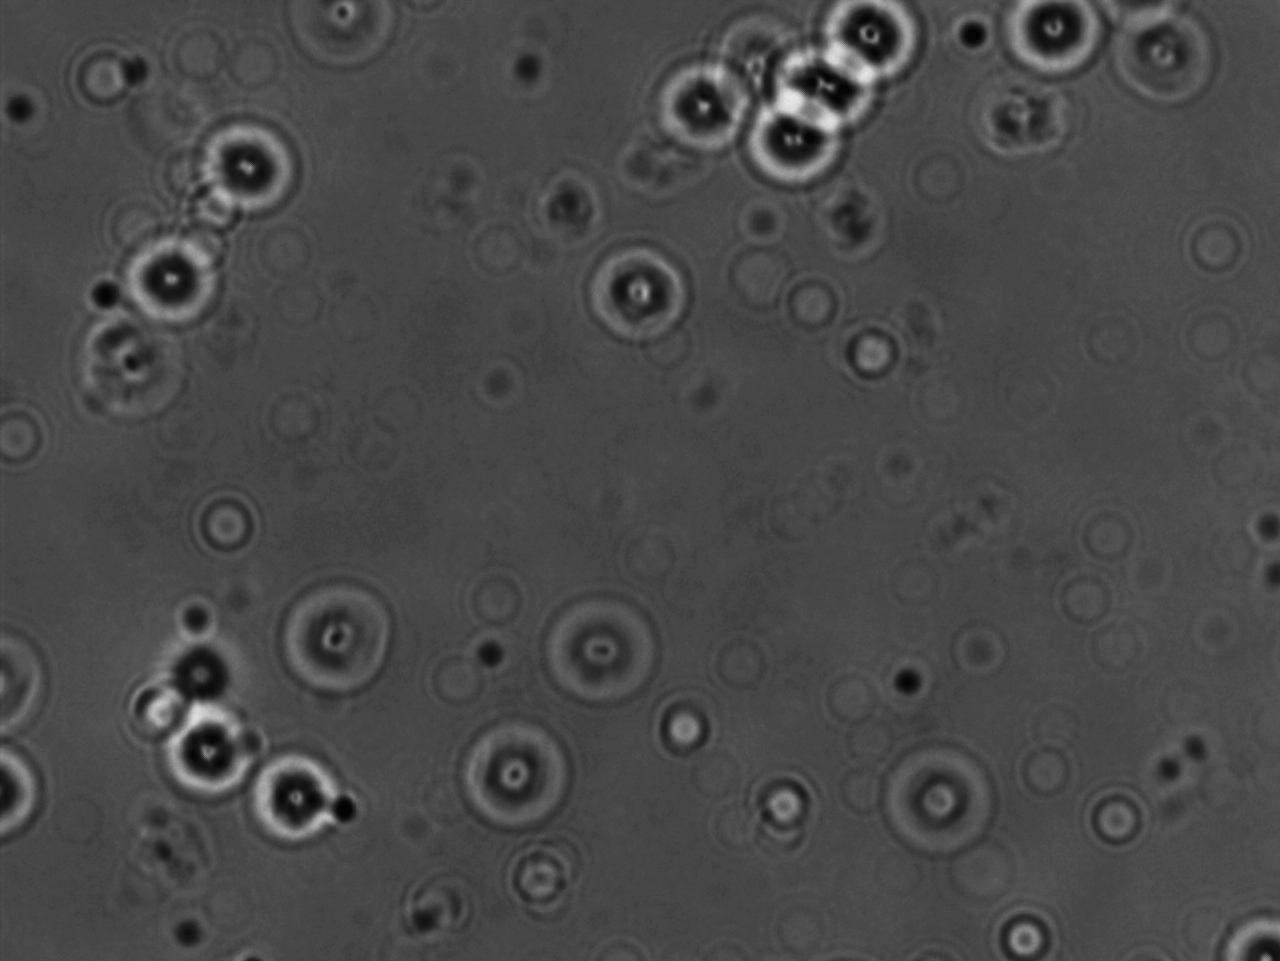depth:-8: (873, 723, 1021, 872), (270, 568, 416, 708), (446, 700, 579, 835), (537, 592, 688, 706), (571, 239, 709, 356), (145, 686, 268, 811), (720, 70, 847, 188), (237, 739, 358, 852), (641, 43, 759, 156), (760, 38, 877, 147), (190, 119, 303, 228), (119, 226, 229, 335)
